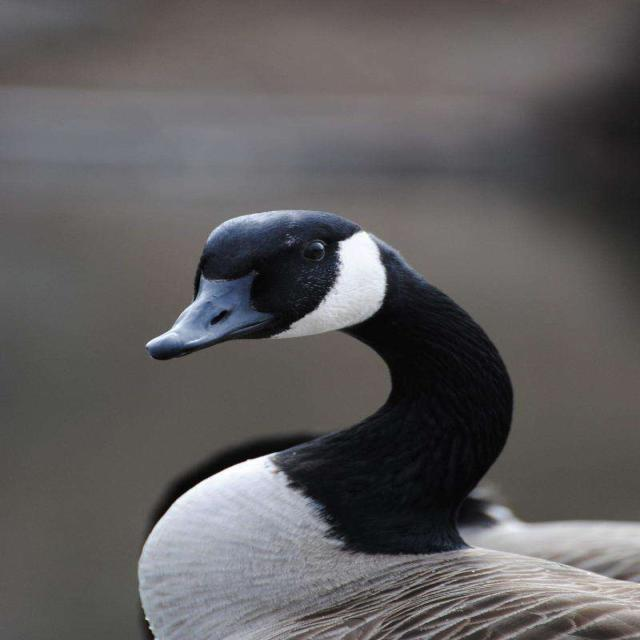Goose: (126, 201, 640, 640)
